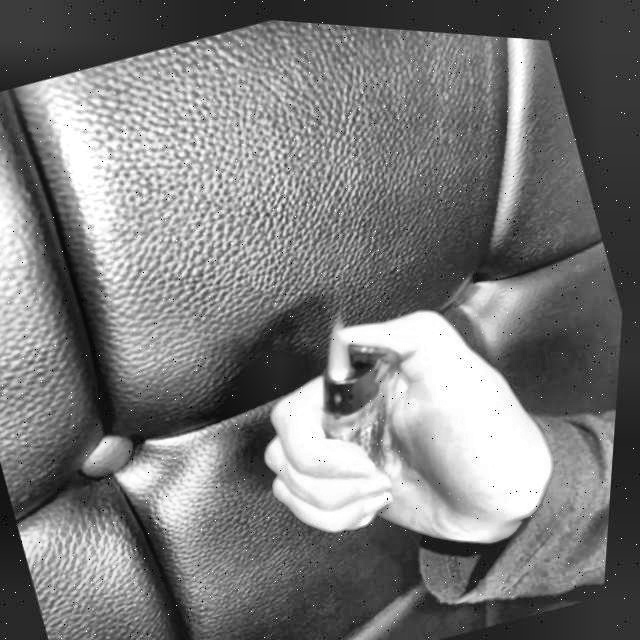Fire: (314, 307, 367, 378)
